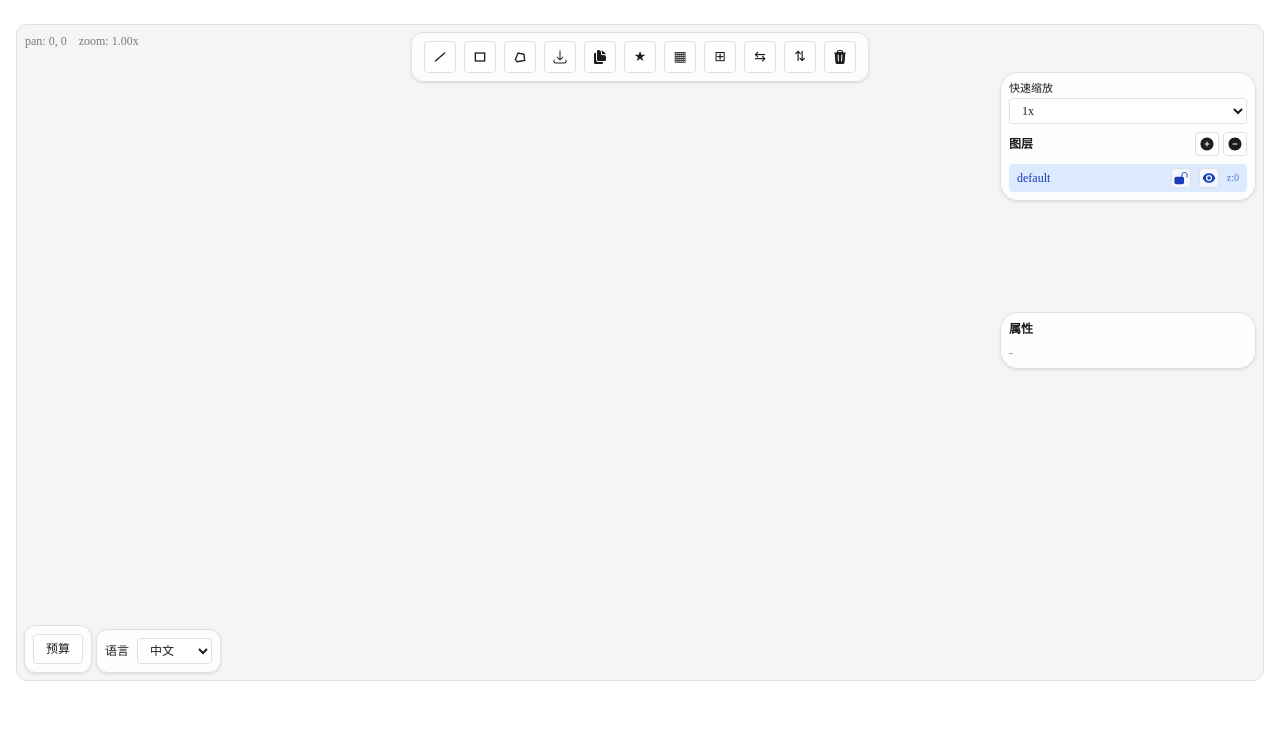
Test case: EditorPage › shows vertex aliases and edge length editors for polygon
The width and height of the screenshot is (1280, 732).
Click the button named "添加多边形". click: click(520, 57)
box: x1=504 y1=41 x2=536 y2=73
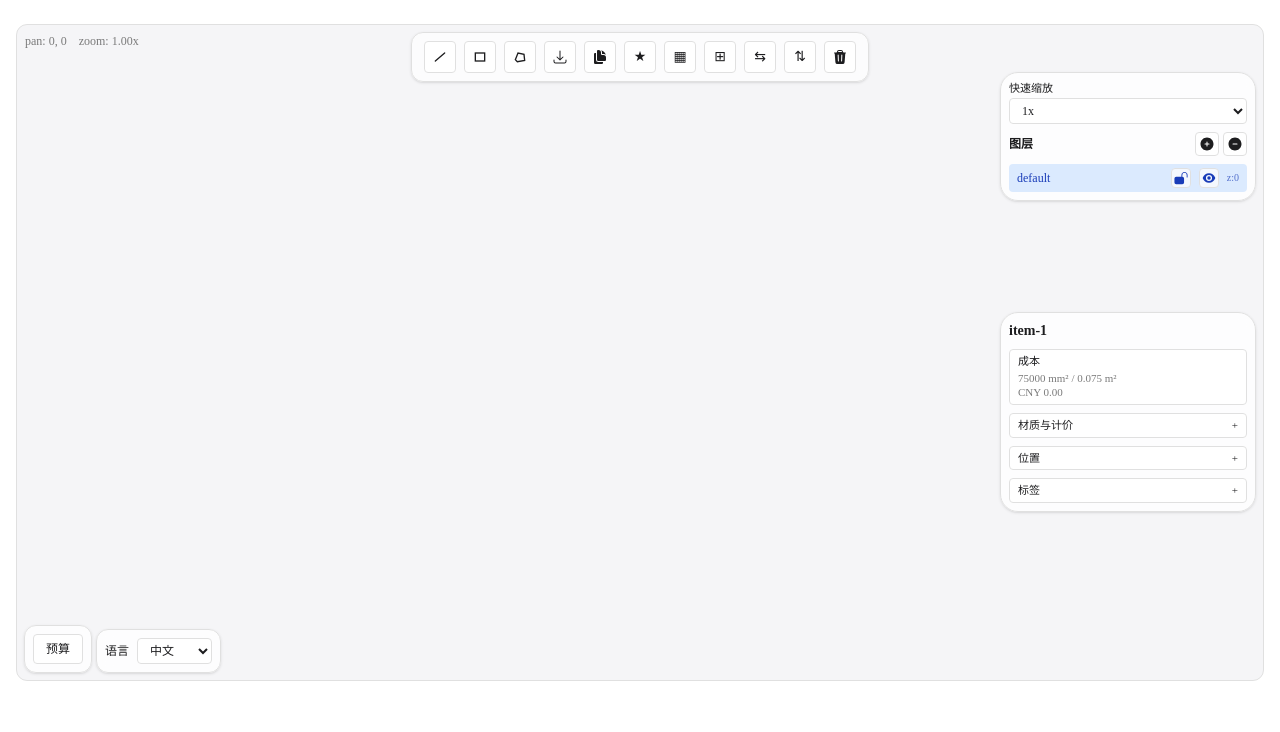
Click the button "位置 +". click: click(1128, 458)
box: x1=1018 y1=451 x2=1238 y2=465
(page scrolled)
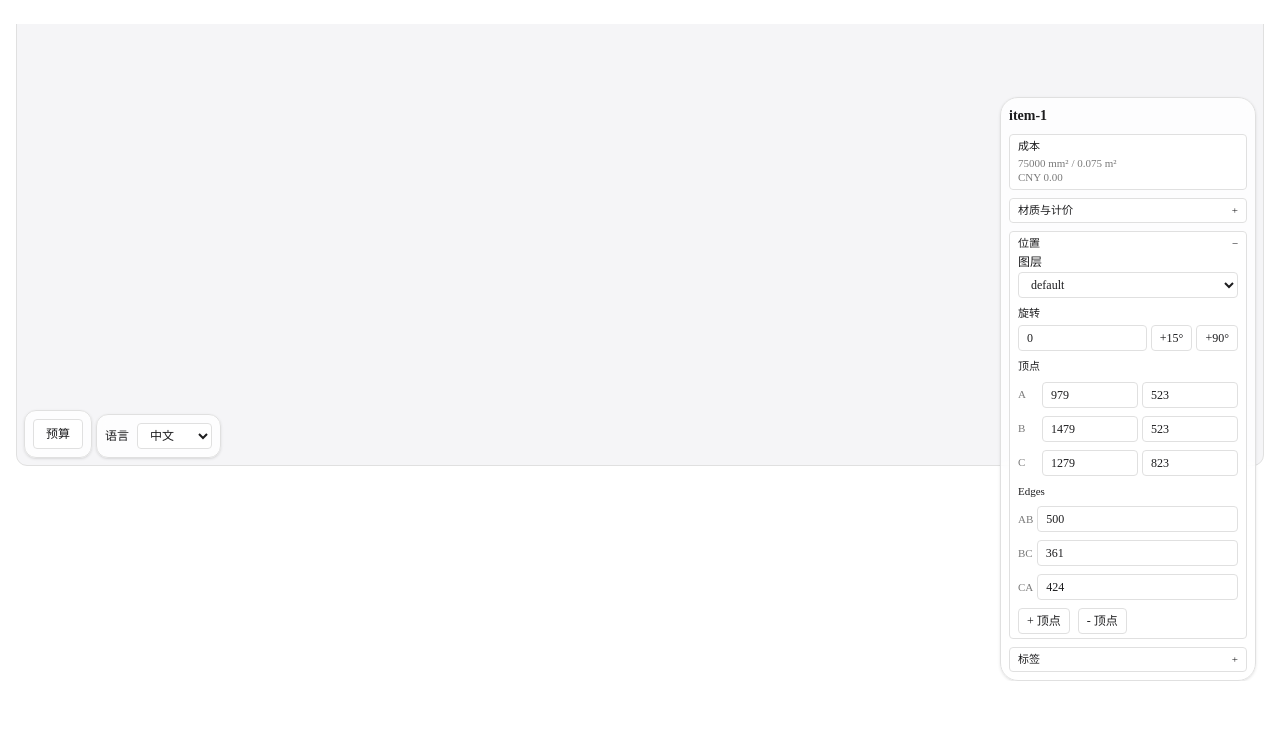
Check: the text "A" is shown, box x1=1018 y1=388 x2=1026 y2=400
Check: the text "B" is shown, box x1=1018 y1=422 x2=1025 y2=434
Check: the number field named "Edge AB" is shown, box x1=1037 y1=506 x2=1238 y2=532
